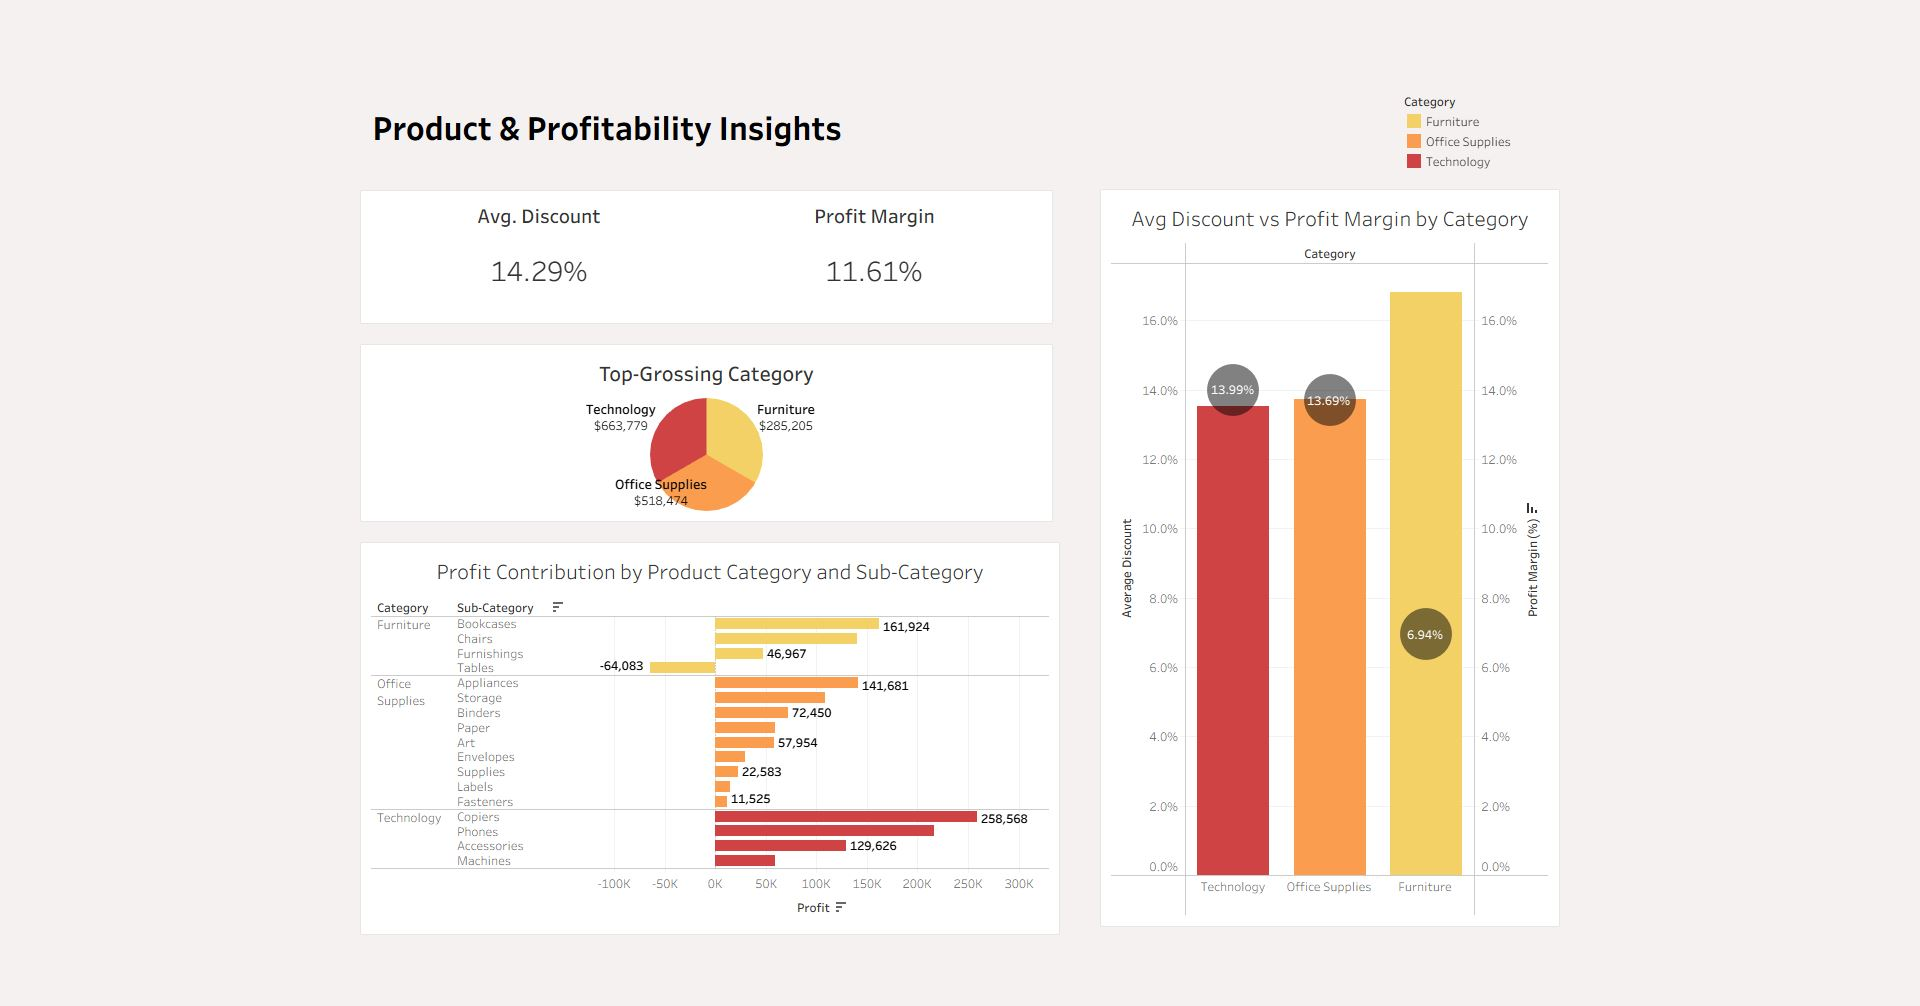

The dashboard page shown, as its layout file describes it:
{"tool":"tableau","page":{"name":"Product & Profitability Insights","canvas":[1000,1000],"units":"permille","ordinal":2},"visuals":[{"type":"text","box":[0,0,584.4,122.1]},{"type":"legend","title":"Top-Grossing Category","param":"[federated.0g22q150zr19dk14zl6151vhu72g].[none:Category:nk]","box":[860.7,16.3,131.2,100]},{"type":"legend","title":"Top-Grossing Category","param":"[federated.0g22q150zr19dk14zl6151vhu72g].[sum:Profit:qk]","box":[860.7,116.3,131.2,25.6]},{"type":"worksheet","title":"Avg Discount vs Profit Margin by Category","mark":"Bar","rows":["Discount","Calculation_907193887537278992"],"cols":["Category"],"box":[606.6,120.9,393.4,881.4]},{"type":"worksheet","title":"Product KPIs","mark":"Automatic","box":[0,122.1,584.4,179.1]},{"type":"worksheet","title":"Top-Grossing Category","mark":"Pie","box":[0,301.2,584.4,230.2]}]}

Visuals, with their boxes on the dashboard's canvas, which has no fixed pixel size, in thousandths of its width and height (x1, y1, x2, y2). These are canvas units, not pixel positions in the 1920x1006 screenshot, which may show the page scaled, cropped or inside an application window:
text: x1=0, y1=0, x2=584, y2=122
"Top-Grossing Category" legend: x1=861, y1=16, x2=992, y2=116
"Top-Grossing Category" legend: x1=861, y1=116, x2=992, y2=142
"Avg Discount vs Profit Margin by Category" worksheet (Bar marks): x1=607, y1=121, x2=1000, y2=1002
"Product KPIs" worksheet: x1=0, y1=122, x2=584, y2=301
"Top-Grossing Category" worksheet (Pie marks): x1=0, y1=301, x2=584, y2=531
